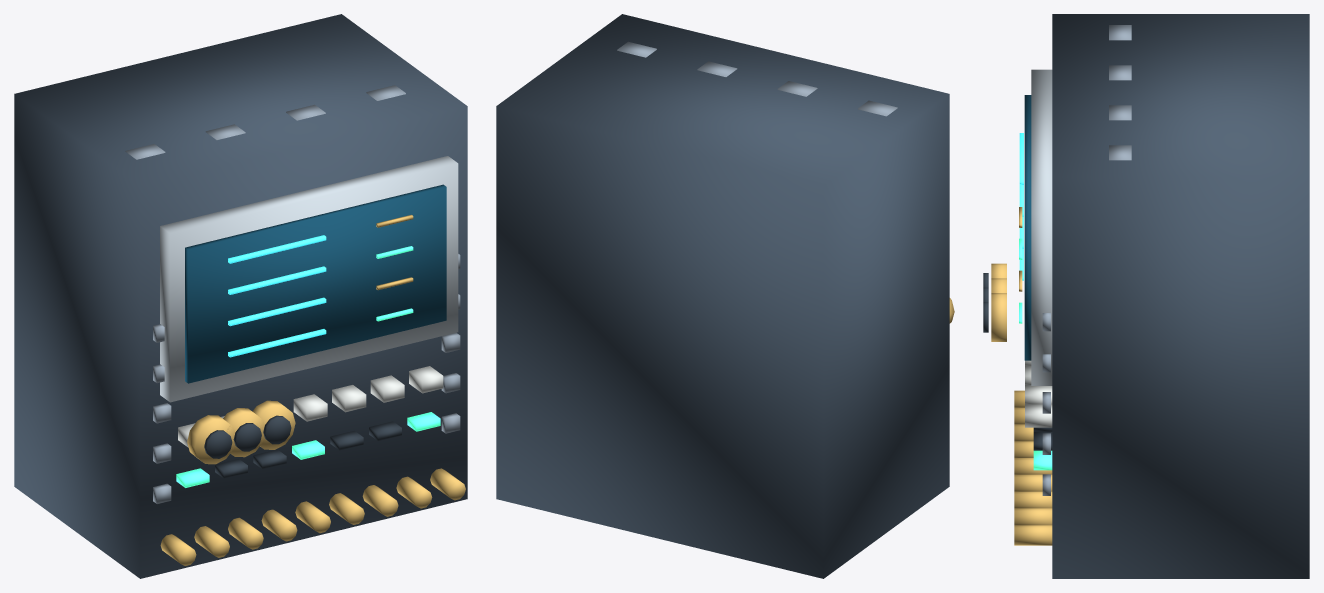
File: 22_L88_AdsorberOutletCO2Analyzer.fbx
3 renders of one model, left to right at view 1: azimuth 30°, elevation 25°; view 2: azimuth 150°, elevation 25°; view 3: azimuth 270°, elevation 25°, orthographic. The views are drawn at different scales.
Visible parts, largest first — view 1: L87_AdsorberOutletCO2Analyzer_Part_0000, L87_AdsorberOutletCO2Analyzer_Part_0002, L87_AdsorberOutletCO2Analyzer_Part_0001, L87_AdsorberOutletCO2Analyzer_Part_0004, L87_AdsorberOutletCO2Analyzer_Part_0008, L87_AdsorberOutletCO2Analyzer_Part_0006, L87_AdsorberOutletCO2Analyzer_Part_0003, L87_AdsorberOutletCO2Analyzer_Part_0007, L87_AdsorberOutletCO2Analyzer_Part_0005, L87_AdsorberOutletCO2Analyzer_Part_0009, L87_AdsorberOutletCO2Analyzer_Part_0013, L87_AdsorberOutletCO2Analyzer_Part_0011 (+3 smaller); view 2: L87_AdsorberOutletCO2Analyzer_Part_0000, L87_AdsorberOutletCO2Analyzer_Part_0008; view 3: L87_AdsorberOutletCO2Analyzer_Part_0000, L87_AdsorberOutletCO2Analyzer_Part_0001, L87_AdsorberOutletCO2Analyzer_Part_0004, L87_AdsorberOutletCO2Analyzer_Part_0008, L87_AdsorberOutletCO2Analyzer_Part_0002, L87_AdsorberOutletCO2Analyzer_Part_0006, L87_AdsorberOutletCO2Analyzer_Part_0013, L87_AdsorberOutletCO2Analyzer_Part_0003, L87_AdsorberOutletCO2Analyzer_Part_0005.
Part boxes in pixels (bbox=[...]): L87_AdsorberOutletCO2Analyzer_Part_0000: bbox=[14, 14, 467, 578]; L87_AdsorberOutletCO2Analyzer_Part_0002: bbox=[185, 184, 446, 383]; L87_AdsorberOutletCO2Analyzer_Part_0001: bbox=[160, 156, 458, 402]; L87_AdsorberOutletCO2Analyzer_Part_0004: bbox=[160, 214, 465, 565]; L87_AdsorberOutletCO2Analyzer_Part_0008: bbox=[125, 85, 460, 503]; L87_AdsorberOutletCO2Analyzer_Part_0006: bbox=[178, 366, 443, 447]; L87_AdsorberOutletCO2Analyzer_Part_0003: bbox=[228, 235, 326, 357]; L87_AdsorberOutletCO2Analyzer_Part_0007: bbox=[215, 421, 401, 478]; L87_AdsorberOutletCO2Analyzer_Part_0005: bbox=[176, 246, 440, 487]; L87_AdsorberOutletCO2Analyzer_Part_0009: bbox=[187, 415, 234, 464]; L87_AdsorberOutletCO2Analyzer_Part_0013: bbox=[252, 400, 295, 449]; L87_AdsorberOutletCO2Analyzer_Part_0011: bbox=[223, 408, 264, 457]; L87_AdsorberOutletCO2Analyzer_Part_0000: bbox=[496, 14, 949, 578]; L87_AdsorberOutletCO2Analyzer_Part_0008: bbox=[617, 41, 897, 116]; L87_AdsorberOutletCO2Analyzer_Part_0000: bbox=[1052, 14, 1309, 578]; L87_AdsorberOutletCO2Analyzer_Part_0001: bbox=[1031, 69, 1052, 385]; L87_AdsorberOutletCO2Analyzer_Part_0004: bbox=[1014, 207, 1052, 545]; L87_AdsorberOutletCO2Analyzer_Part_0008: bbox=[1042, 25, 1131, 495]; L87_AdsorberOutletCO2Analyzer_Part_0002: bbox=[1024, 95, 1031, 360]; L87_AdsorberOutletCO2Analyzer_Part_0006: bbox=[1025, 360, 1052, 427]; L87_AdsorberOutletCO2Analyzer_Part_0013: bbox=[991, 293, 1006, 341]; L87_AdsorberOutletCO2Analyzer_Part_0003: bbox=[1019, 133, 1023, 280]; L87_AdsorberOutletCO2Analyzer_Part_0005: bbox=[1019, 238, 1052, 470].
Size of the model in its own units: 1.02 by 1.17 by 0.862.
